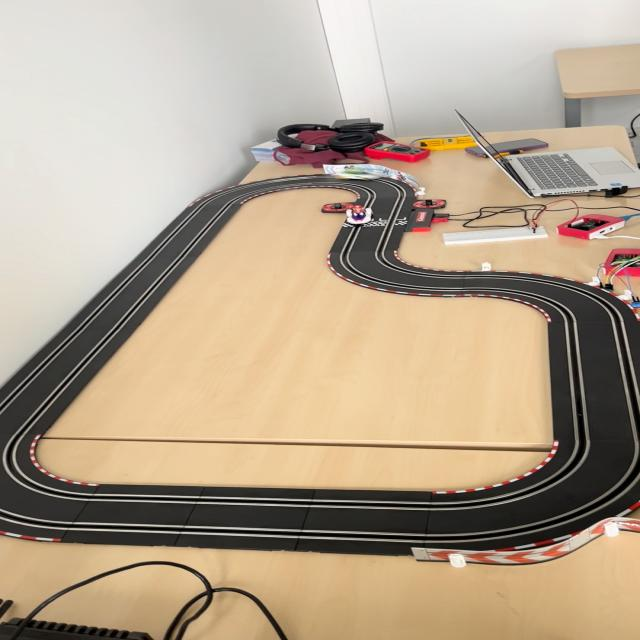mario: (343, 204, 376, 226)
yoshi: (333, 166, 387, 182)
